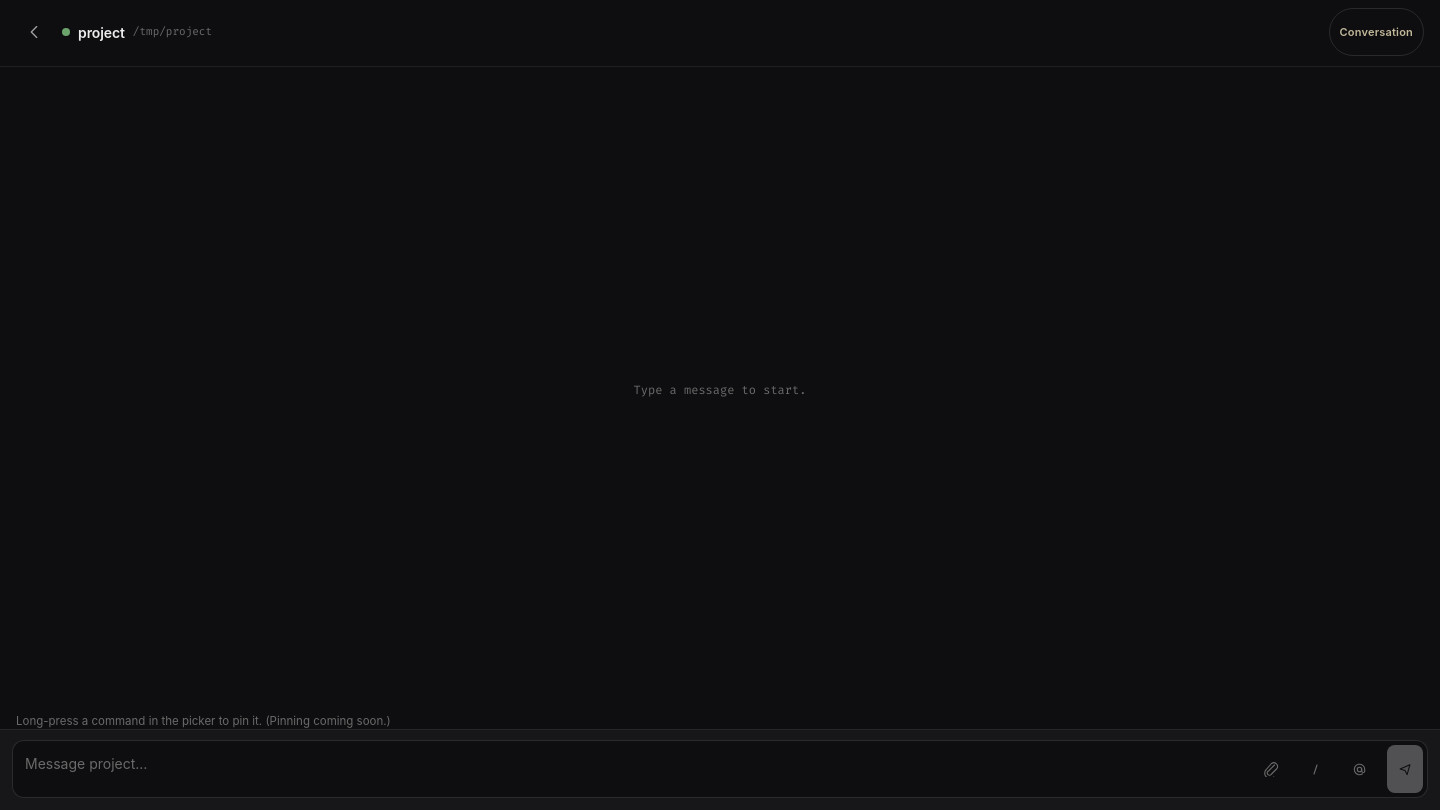
Test: ChatScreen › slash button opens picker with commands
Step 1. Click the button named "Insert slash command" → {"x": 1315, "y": 769}, box [1297,745,1333,793]
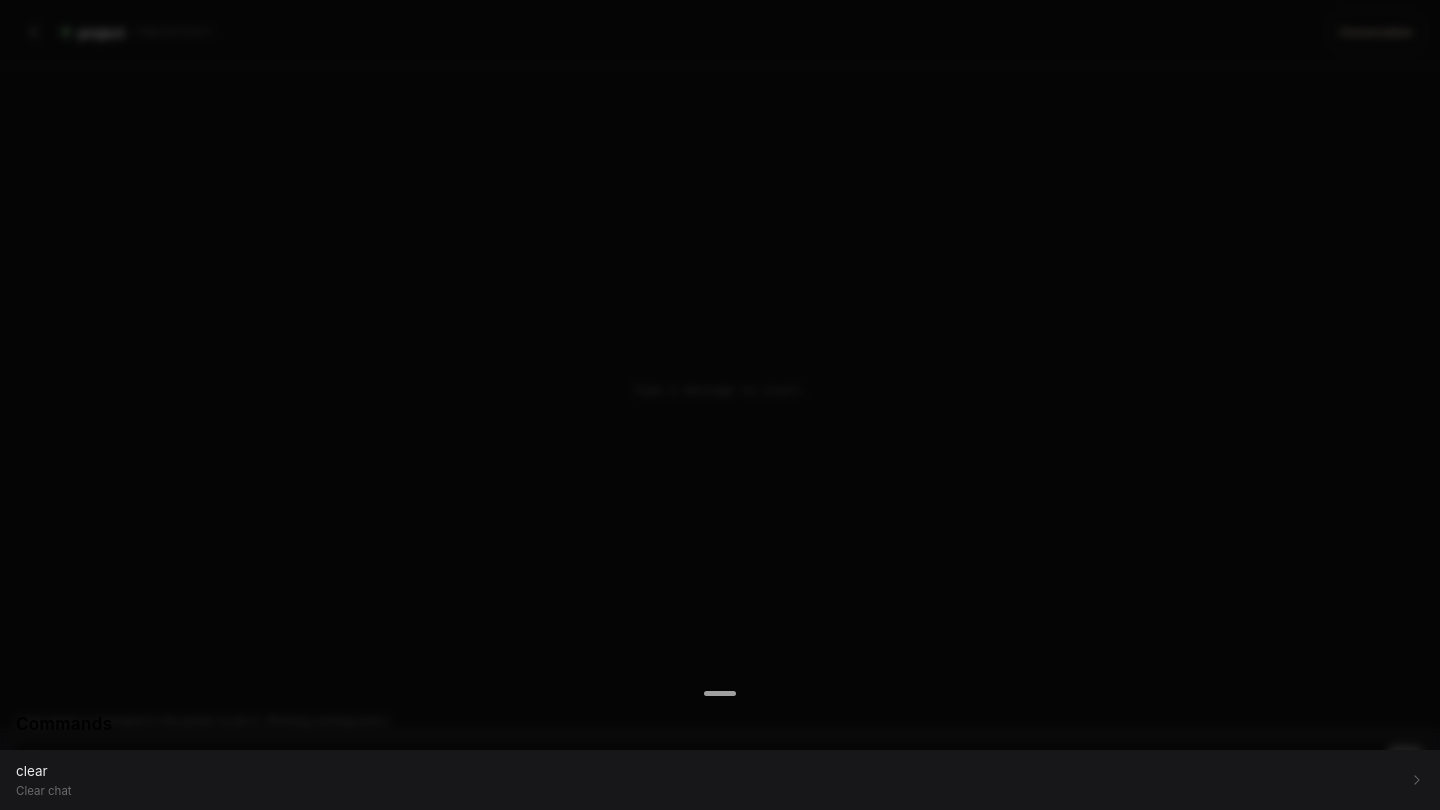
Expected: the text "clear" is shown, [16,763,48,779]
Expected: the text "Clear chat" is shown, [16,784,72,798]
